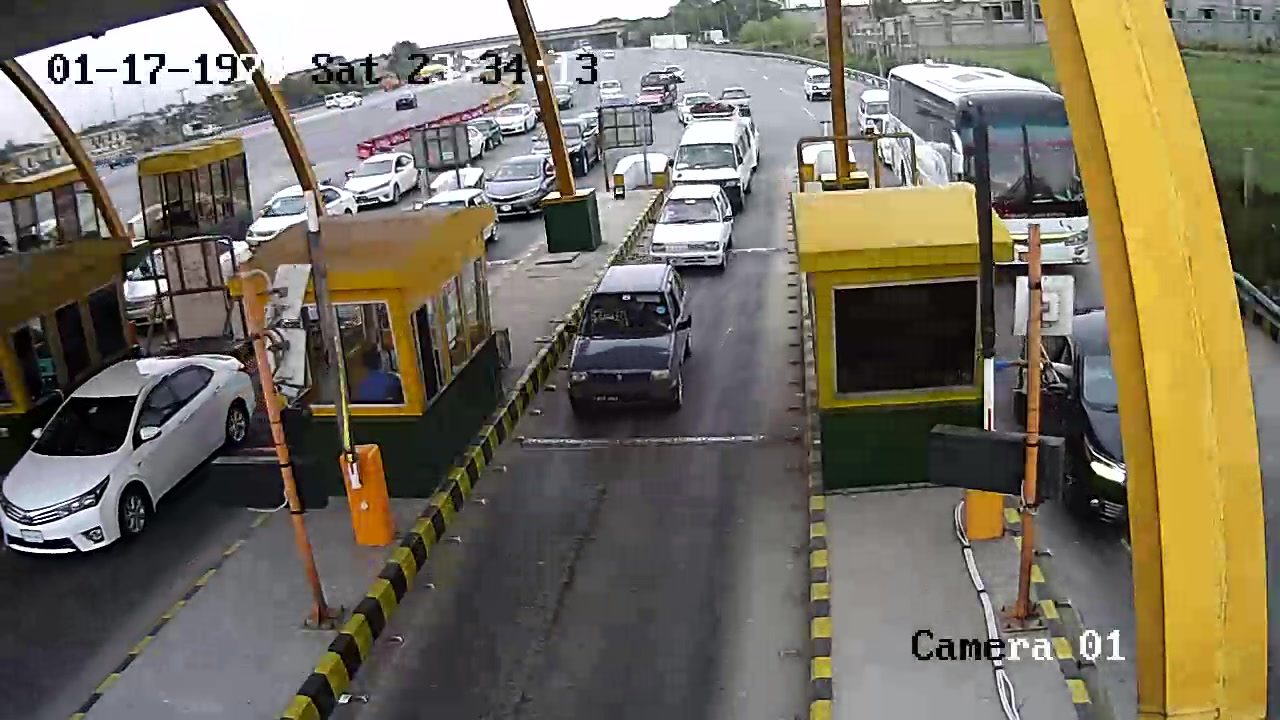F1: (565, 257, 694, 422)
